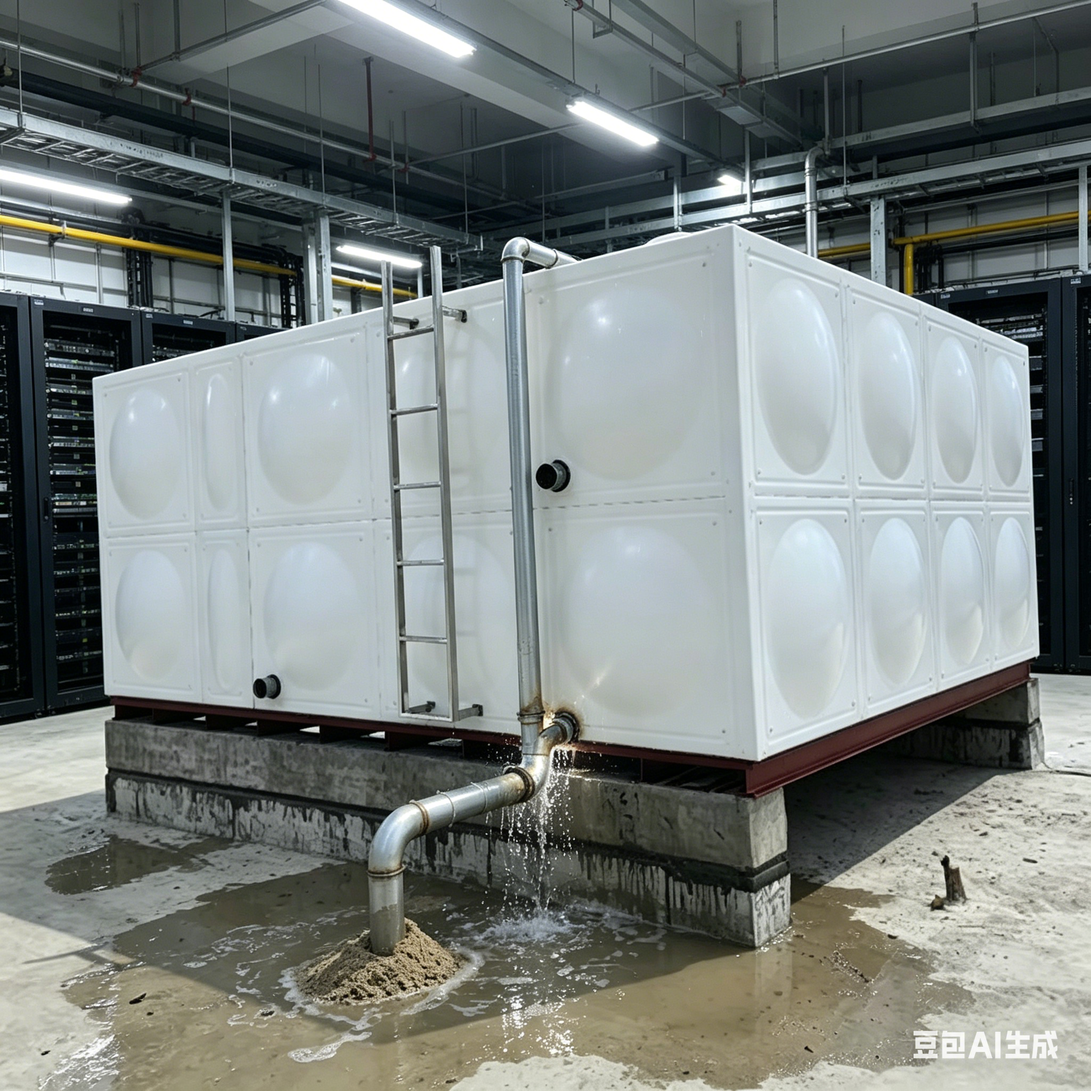Leakage: (106, 925, 491, 1091), (634, 921, 937, 1085), (501, 676, 616, 1049), (233, 872, 477, 923), (50, 822, 182, 886)
